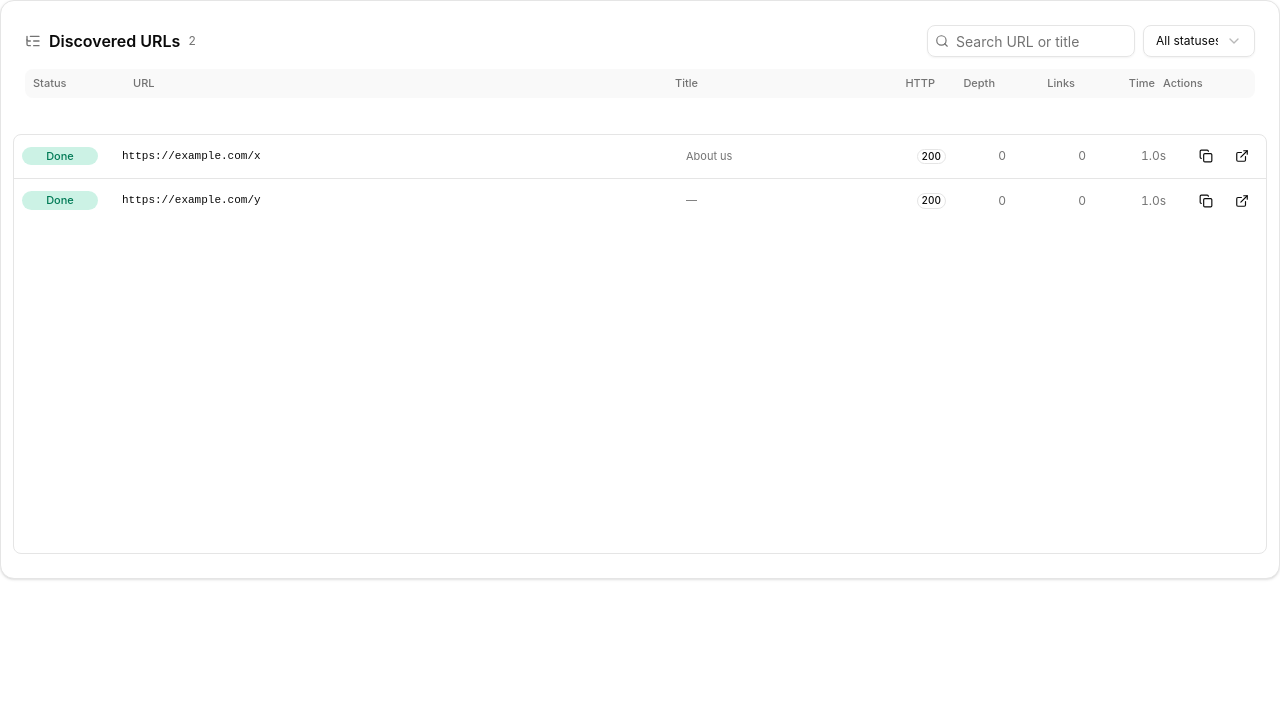
Test case: UrlList › matches the page title too / 也匹配頁面標題
Type "About" into the field with placeholder "Search URL or title".
click(1031, 41); type("About")  # box [927,25,1135,57]
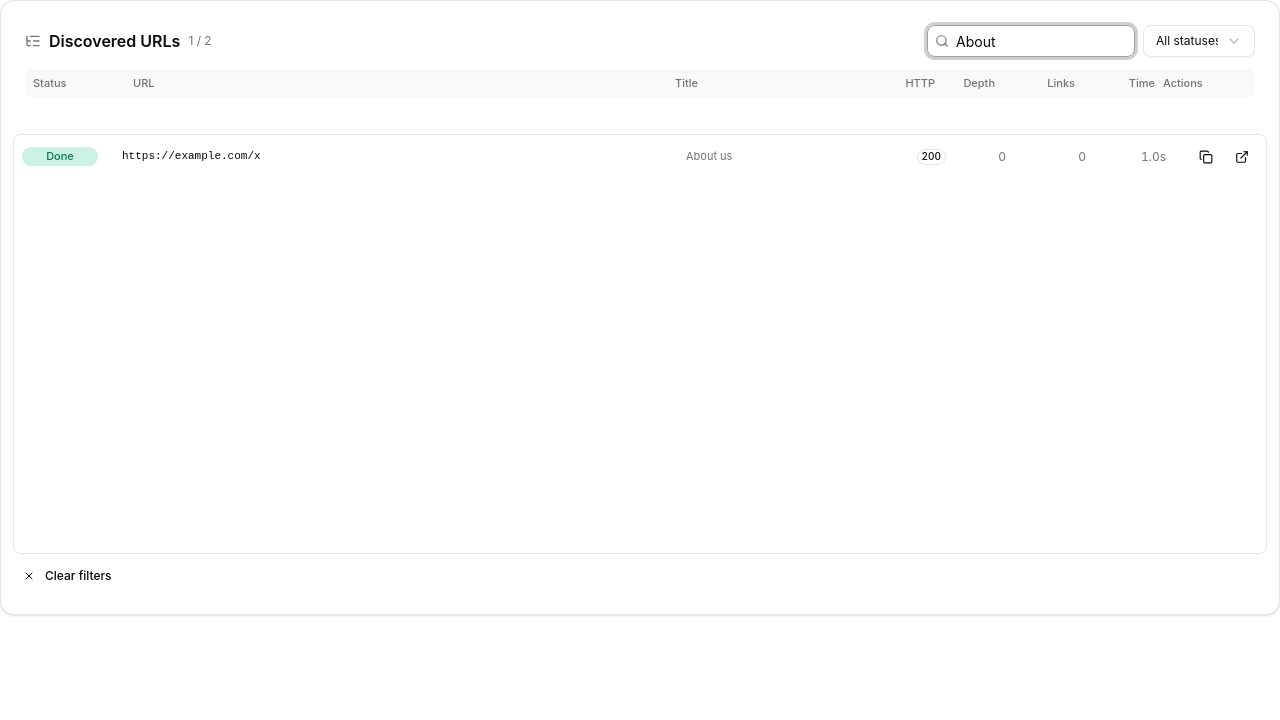
expect the link "https://example.com/x" is shown: met, box [122,149,261,164]
expect the link "https://example.com/y" is gone: met
